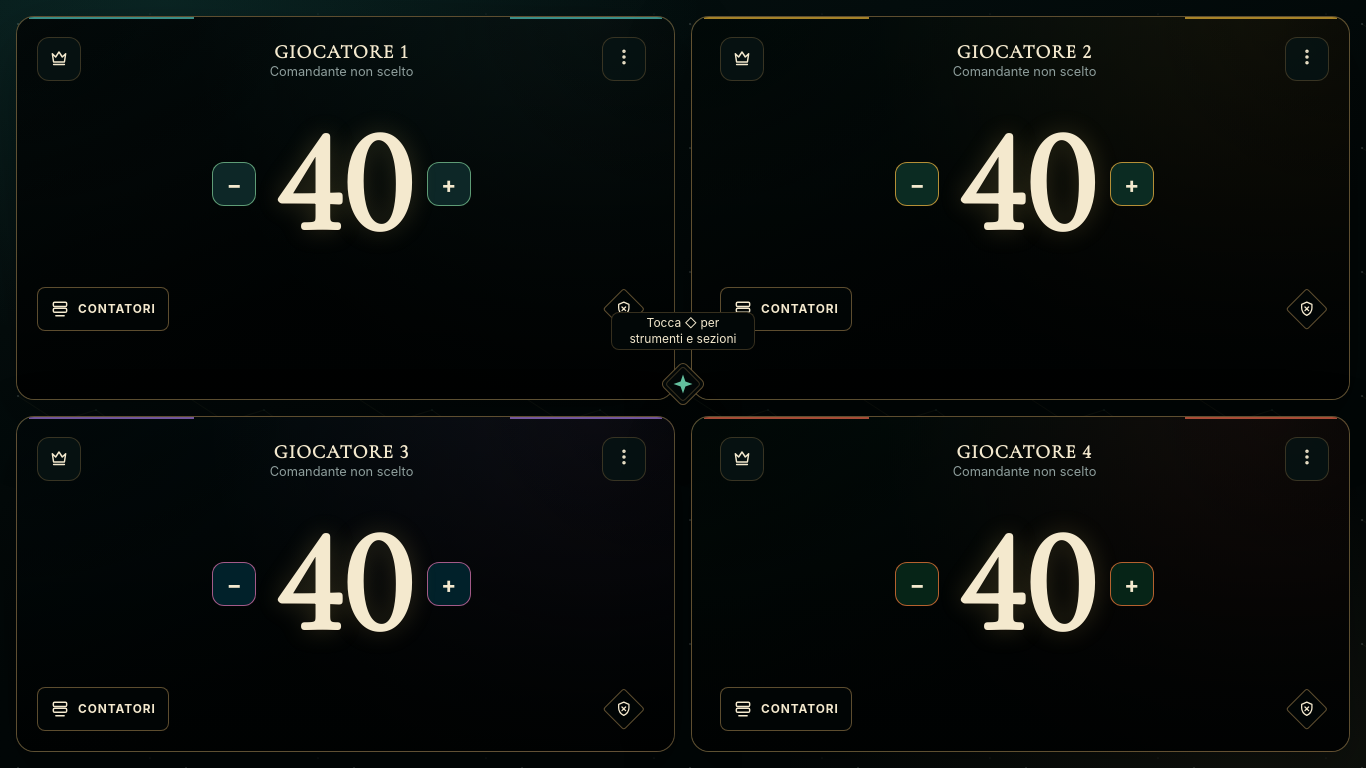
Test: Dadi (R2 §8.1) › replaces the actions with the panel and focuses «Torna agli strumenti»
Click the button named "Apri strumenti e sezioni".
click(683, 384)  # box [655,356,711,412]
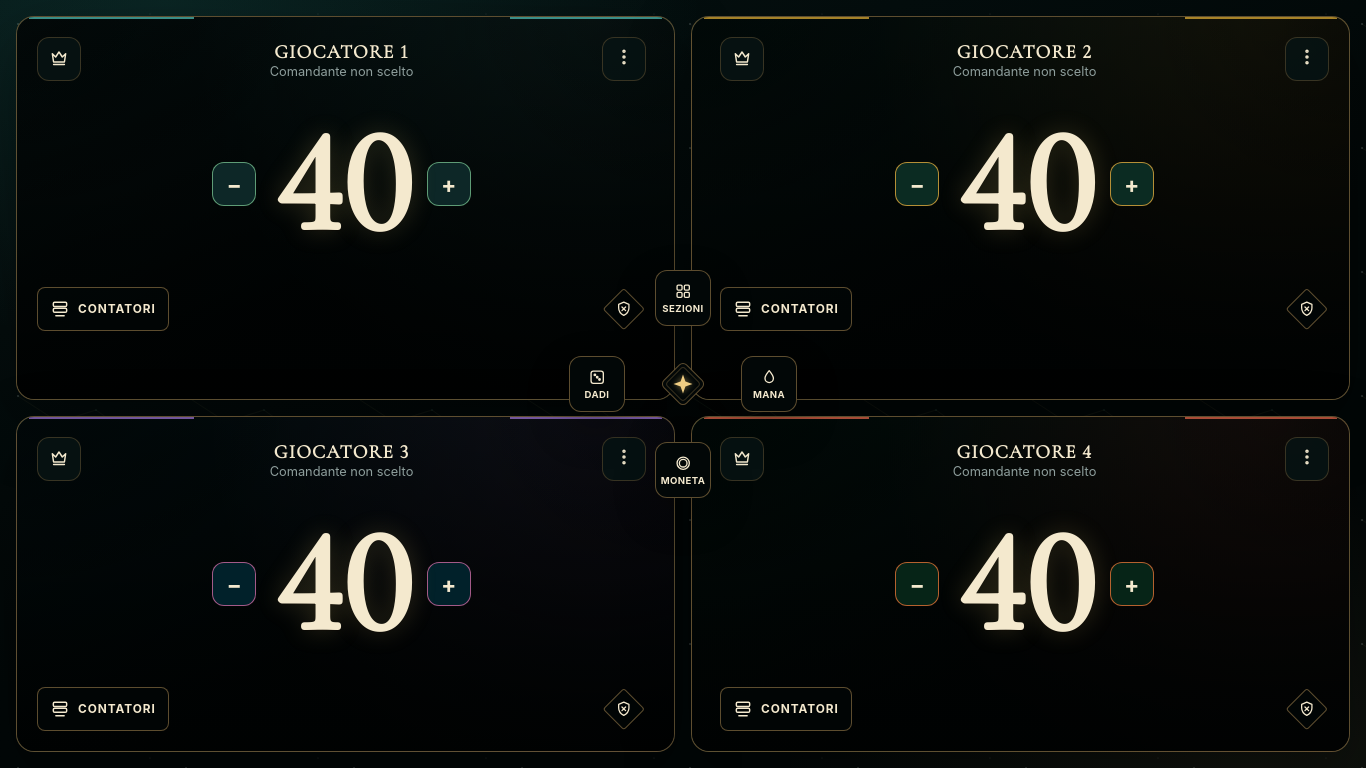
Click the button "Dadi".
click(597, 384)  # box [569,356,625,412]
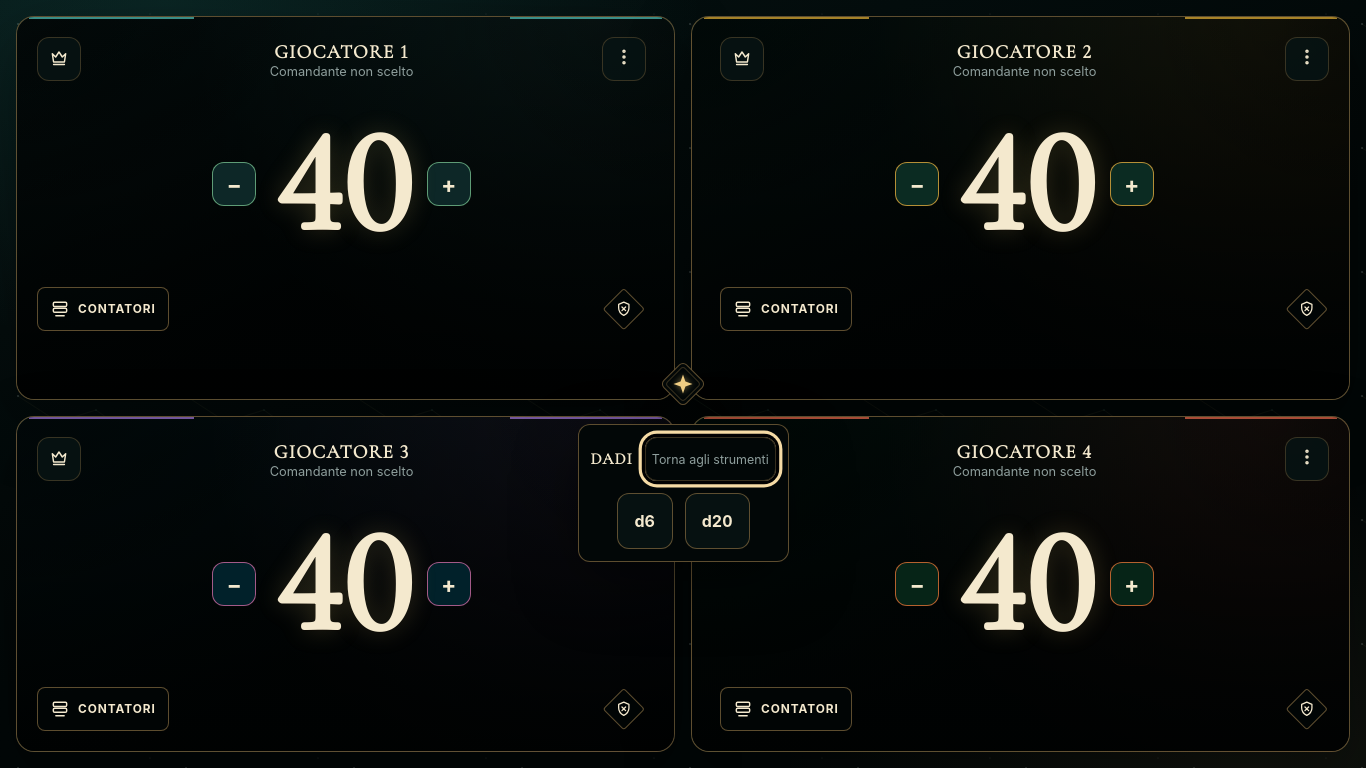
Check: the text "strumenti e sezioni" is not shown
Check: the element "Dadi" is shown, box [578,424,788,562]
